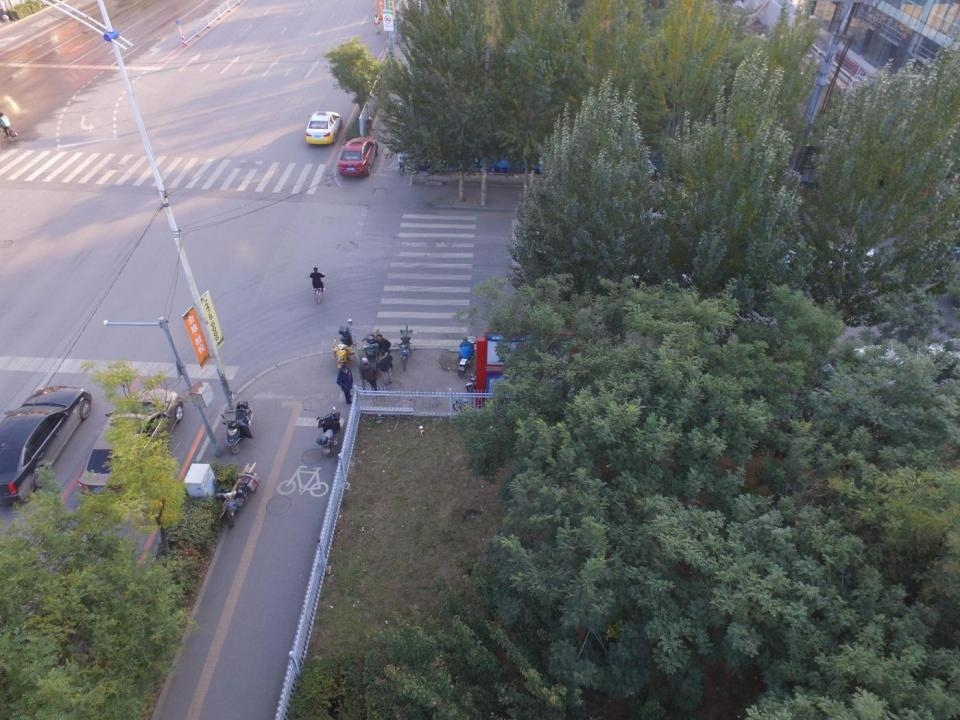car: (0, 384, 91, 504), (88, 389, 182, 500), (337, 133, 377, 178), (302, 111, 342, 148)
